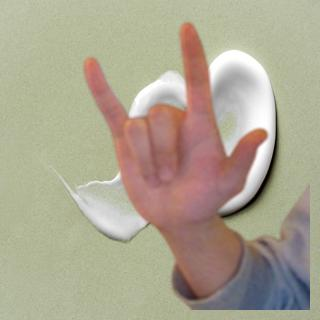ILY: (74, 15, 272, 233)
